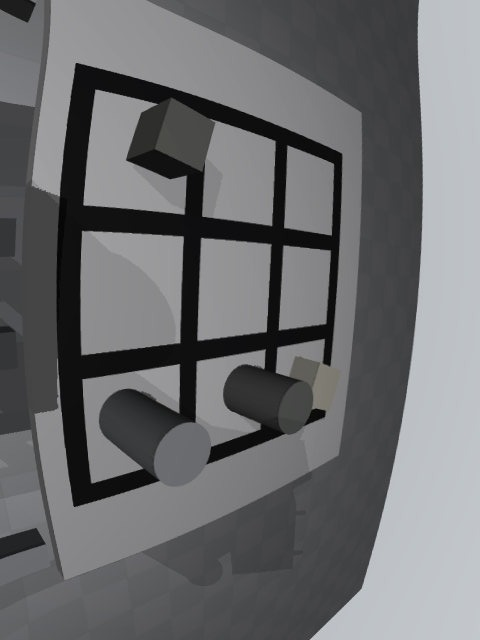can: (99, 389, 211, 487)
cube: (126, 97, 215, 179)
cylinder: (223, 364, 313, 435)
foam: (289, 356, 341, 412)
